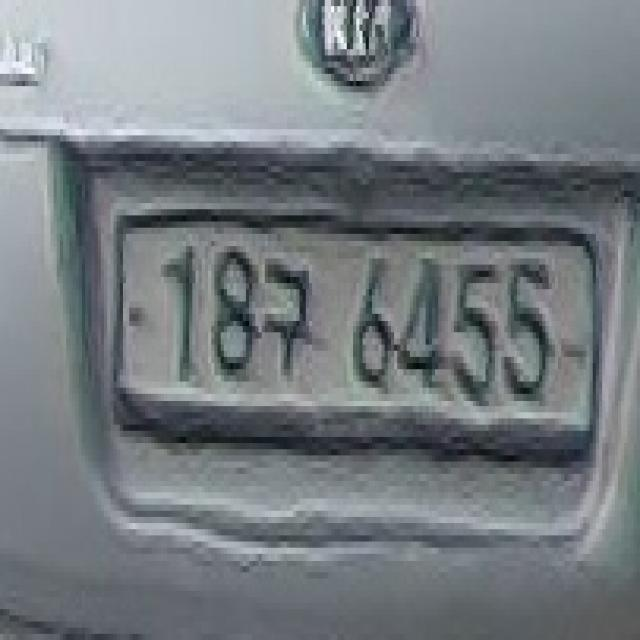1: (151, 234, 205, 394)
4: (394, 246, 448, 406)
5: (505, 240, 561, 418), (448, 252, 501, 425)
6: (350, 240, 397, 400)
8: (208, 234, 259, 394)
gu: (255, 240, 312, 382)
license_plate: (101, 203, 608, 468)
